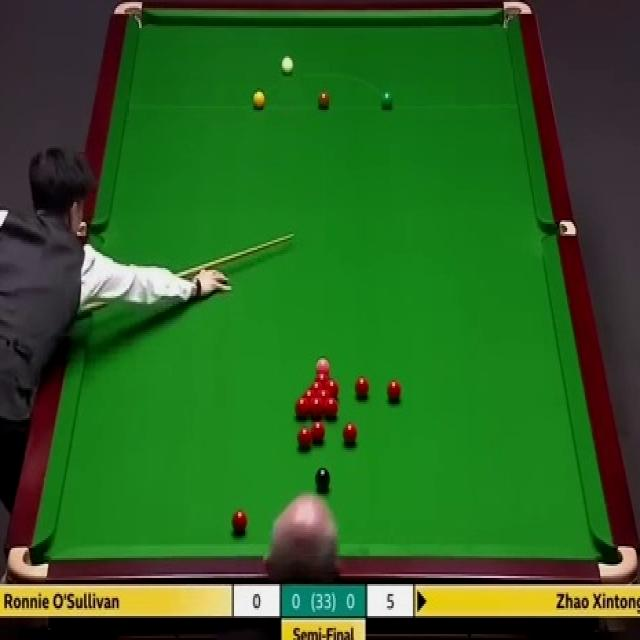pocket: (595, 543, 636, 580), (8, 543, 50, 577), (500, 0, 534, 32), (113, 0, 143, 28), (541, 218, 575, 237)
